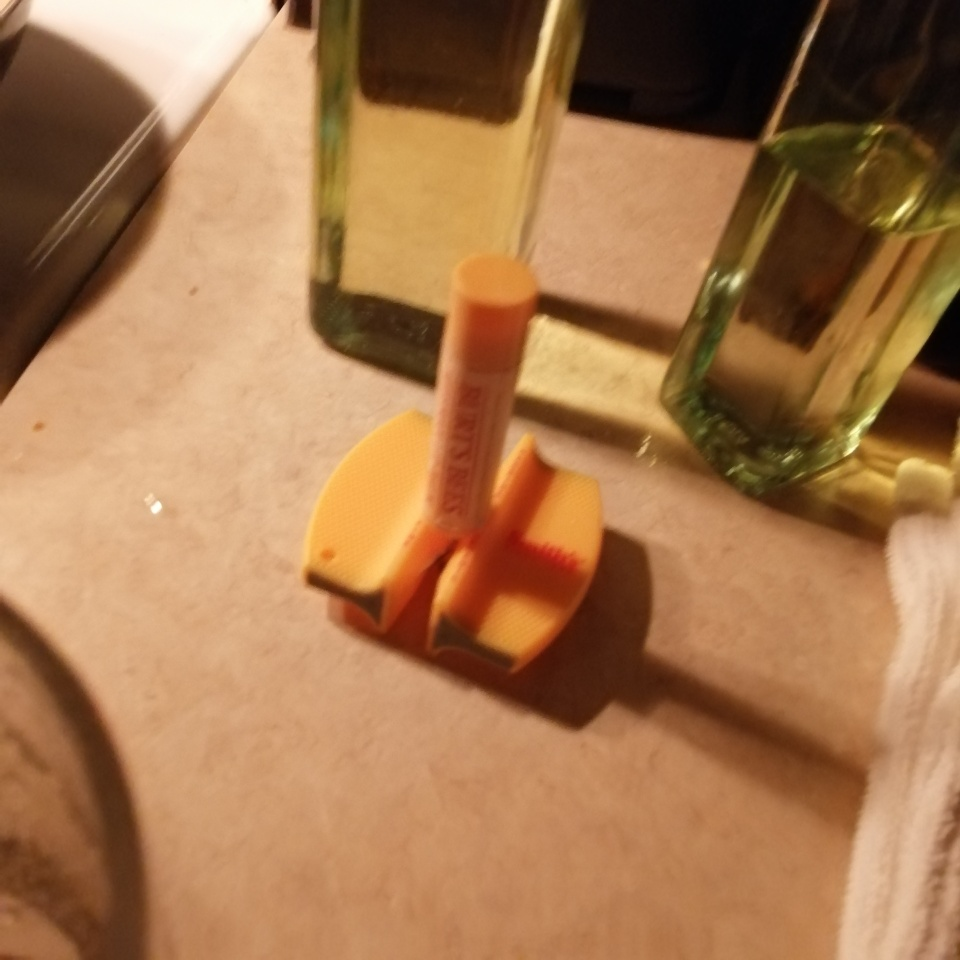chapstick: (421, 254, 539, 540)
